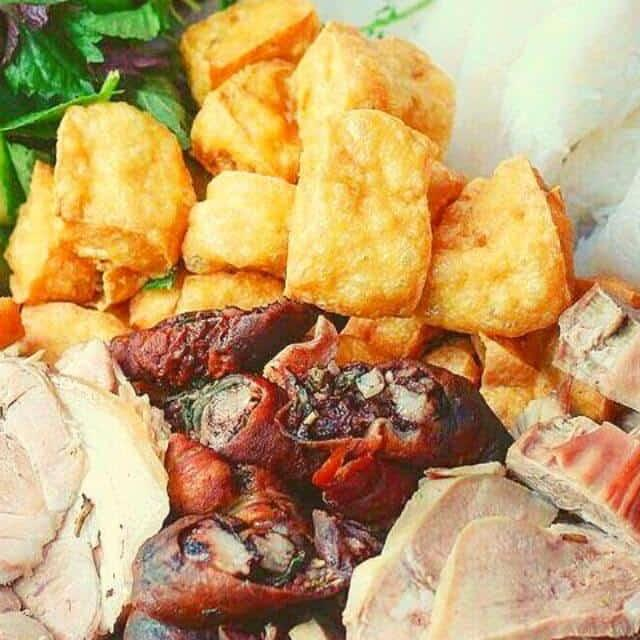bun: (254, 0, 640, 401)
bun dau: (0, 26, 640, 640)
dau hu: (157, 0, 469, 331), (0, 84, 209, 325), (399, 136, 594, 342)
doi sun: (107, 290, 516, 640)
thit heo: (331, 440, 640, 640), (0, 326, 191, 640)
